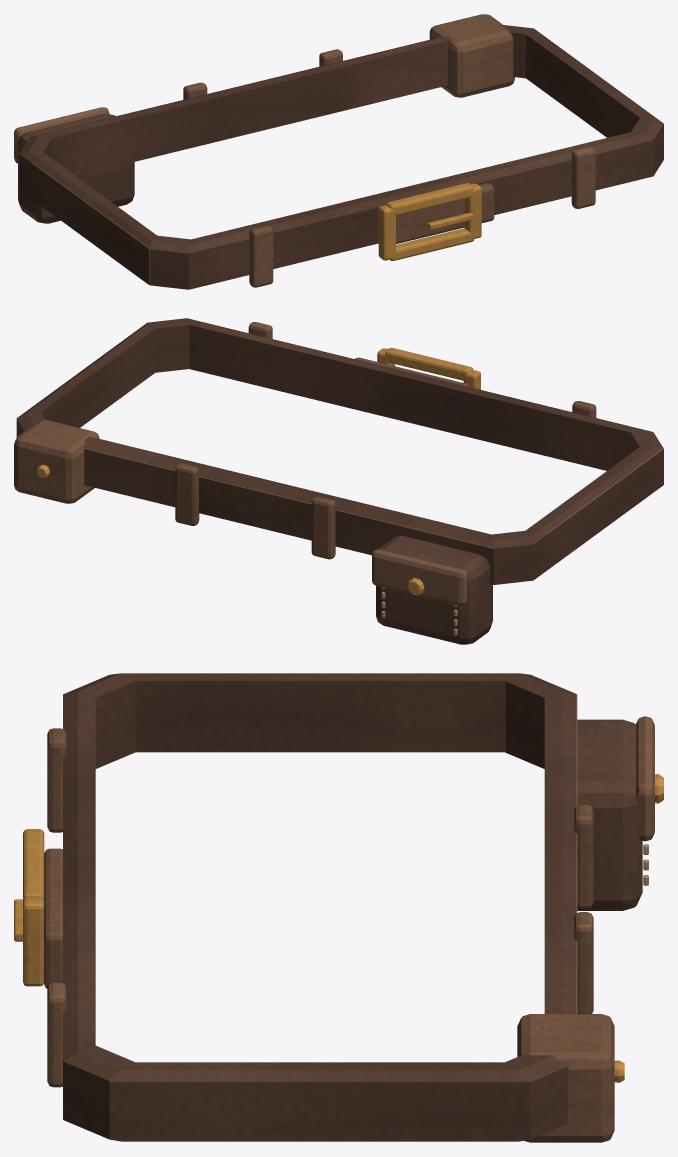
File: 06_Ceinture.fbx
3 views of the same model, one above another, from view 1: azimuth 30°, elevation 25°; view 2: azimuth 150°, elevation 25°; view 3: azimuth 270°, elevation 25° (orthographic). The views are drawn at different scales.
Visible parts, largest first — view 1: 06_Ceinture; view 2: 06_Ceinture; view 3: 06_Ceinture.
Boxes of the visible parts, x1,y1,x2,y2 form: 06_Ceinture: (14, 14, 663, 289); 06_Ceinture: (14, 318, 663, 644); 06_Ceinture: (14, 673, 663, 1142).
Size of the model in its own units: 2.1 by 0.3845 by 1.42.
Materials: 1 (1 with a texture image).
